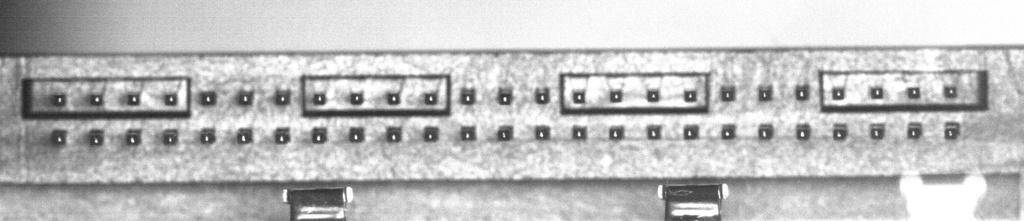pin_ok: (943, 121, 961, 139), (497, 86, 513, 105), (460, 87, 477, 104), (757, 123, 774, 140), (199, 90, 217, 106), (907, 121, 923, 139), (274, 127, 290, 144), (459, 125, 476, 141), (274, 88, 290, 105), (385, 126, 402, 142), (533, 87, 550, 103), (51, 128, 67, 145), (720, 85, 736, 101), (497, 125, 513, 141), (757, 85, 773, 101), (348, 126, 364, 142), (311, 127, 327, 143), (199, 128, 215, 144), (236, 128, 252, 144), (795, 124, 811, 140), (683, 124, 699, 140), (125, 129, 141, 145), (162, 129, 178, 145), (832, 124, 848, 140), (534, 125, 551, 140), (88, 129, 103, 146), (423, 126, 439, 141), (720, 124, 736, 139), (870, 124, 885, 140), (646, 124, 661, 140), (238, 89, 253, 105), (572, 125, 587, 140), (795, 85, 810, 100), (831, 86, 846, 100), (683, 88, 698, 102), (609, 126, 624, 140), (423, 91, 438, 105), (88, 92, 103, 106), (386, 91, 401, 105), (646, 87, 660, 102), (571, 90, 586, 104), (943, 84, 957, 98), (164, 92, 178, 106), (870, 85, 884, 99), (609, 88, 623, 102), (349, 90, 363, 104), (906, 86, 921, 99), (312, 92, 327, 105), (52, 93, 66, 106), (126, 92, 140, 105)
